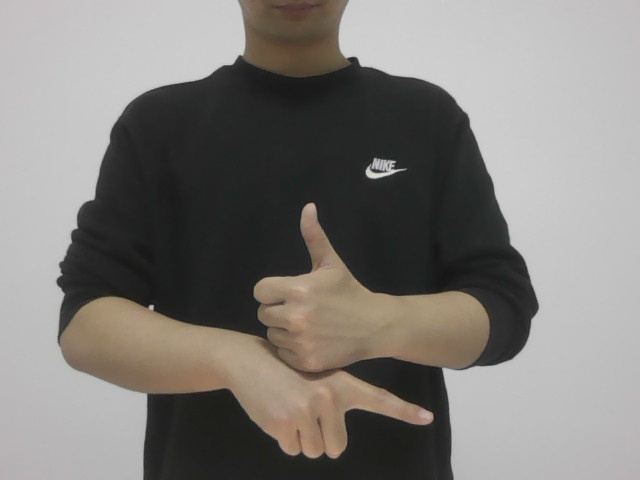birthday: (231, 187, 439, 469)
